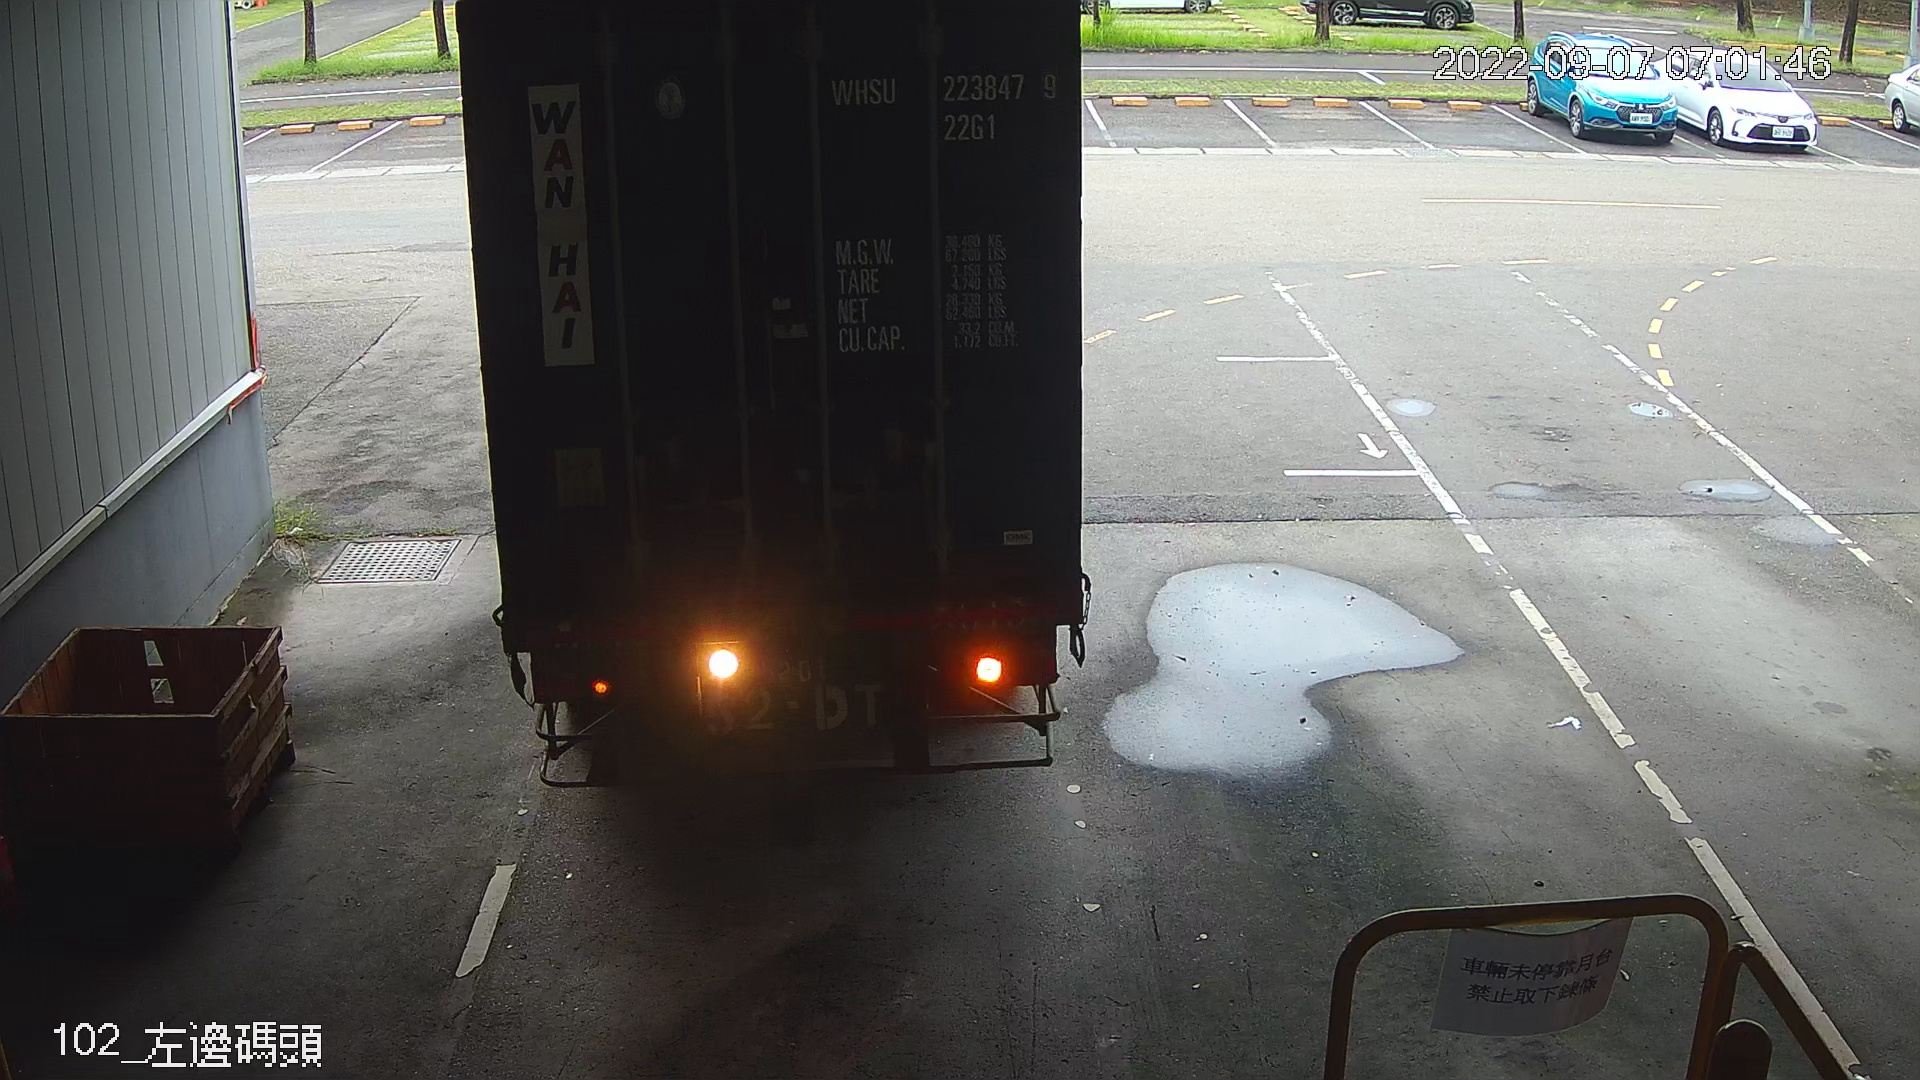container: (822, 61, 1067, 149)
